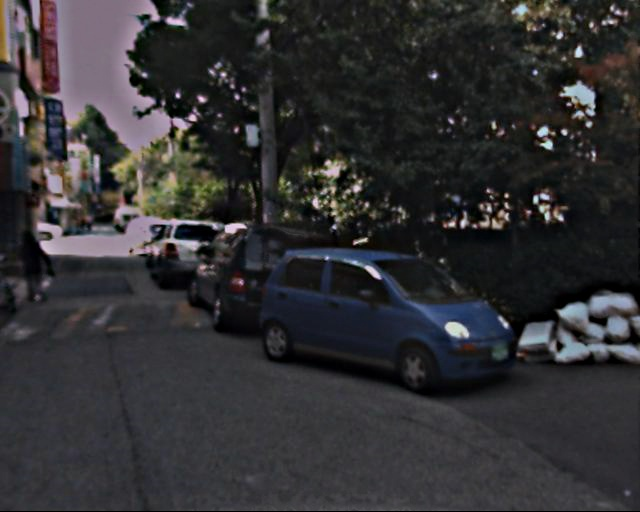person: (19, 222, 53, 302)
